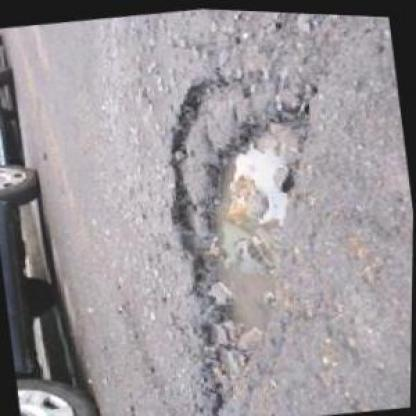pothole: (144, 55, 368, 414)
